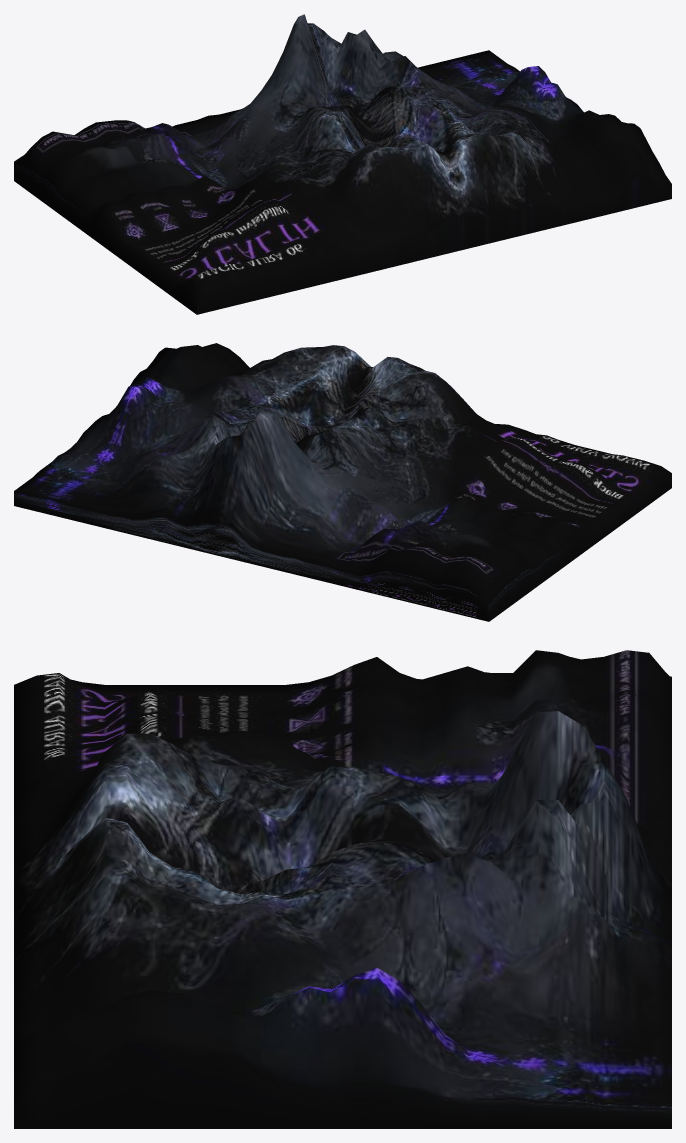
File: MAGIC_Aura_06_Stealth.glb
3 views of the same model, one above another, from view 1: azimuth 30°, elevation 25°; view 2: azimuth 150°, elevation 25°; view 3: azimuth 270°, elevation 25° (orthographic). The views are drawn at different scales.
Parts seen in each view (by area): view 1: MAGIC_Aura_06_Stealth; view 2: MAGIC_Aura_06_Stealth; view 3: MAGIC_Aura_06_Stealth.
Part boxes in pixels (x1=…): MAGIC_Aura_06_Stealth: x1=14, y1=14, x2=671, y2=314; MAGIC_Aura_06_Stealth: x1=14, y1=343, x2=671, y2=621; MAGIC_Aura_06_Stealth: x1=14, y1=650, x2=671, y2=1128.
Bounding box in the file's own units: 2 × 0.51 × 1.33.
Materials: 1 (1 with a texture image).
